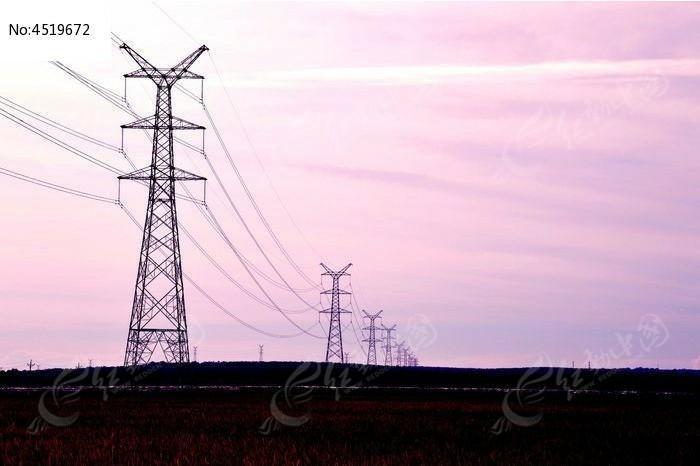power_tower: (115, 34, 220, 368), (312, 258, 356, 365), (360, 305, 382, 366), (379, 321, 399, 367)
